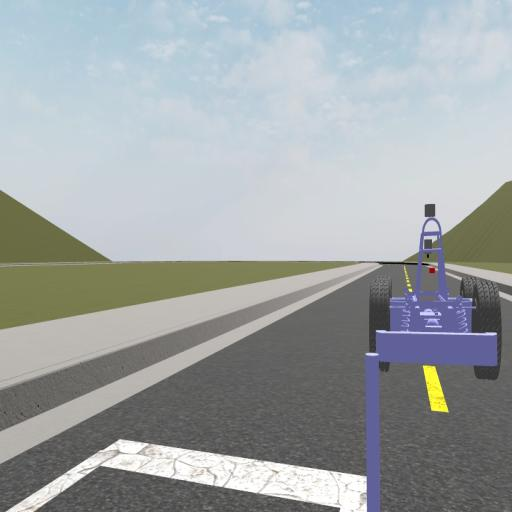ERP-42: (368, 202, 503, 380)
